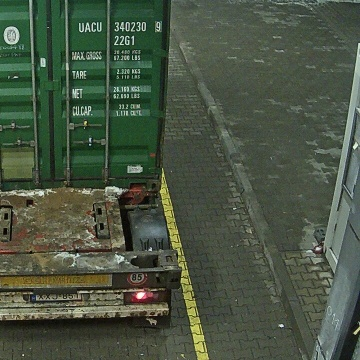serial_id: (79, 22, 161, 32)
